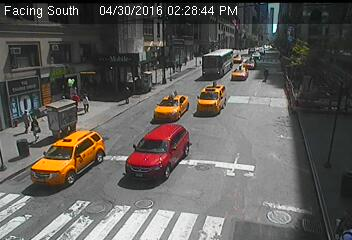neg: (158, 68, 169, 82), (193, 52, 202, 65), (176, 58, 184, 68)
pos: (25, 114, 47, 143), (15, 107, 34, 132), (76, 91, 93, 114), (260, 66, 272, 83), (69, 91, 80, 105)
